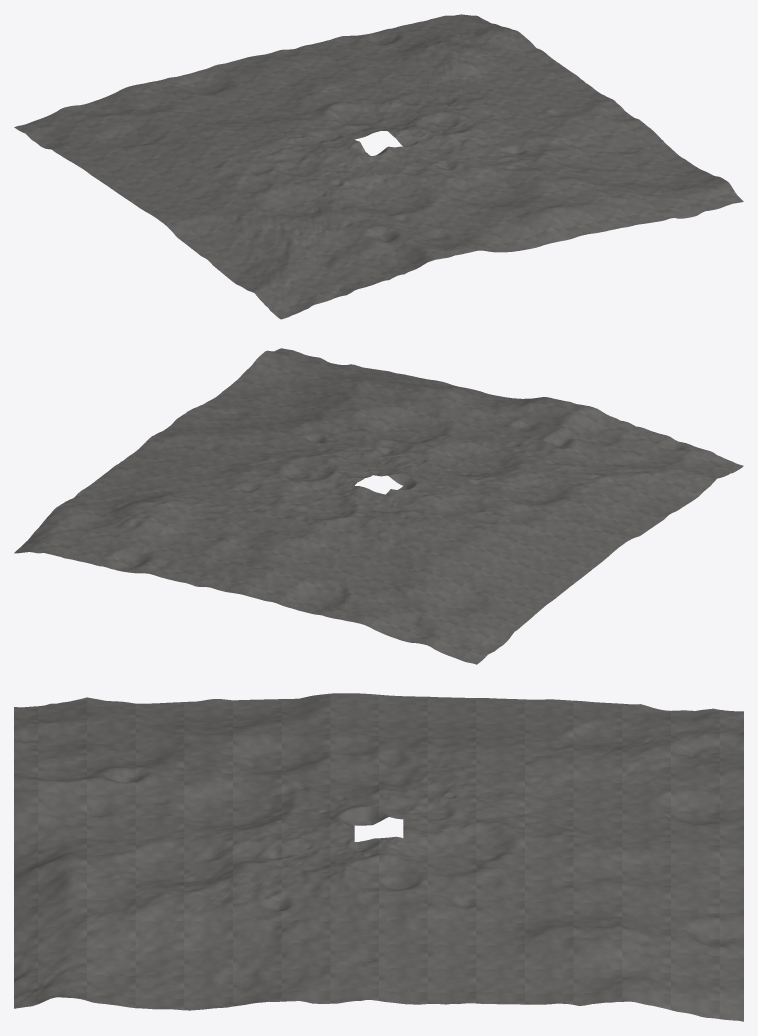
The model's file is shackleton-rim_far.glb.
The picture shows the model from 3 angles, top to bottom: view 1: azimuth 30°, elevation 25°; view 2: azimuth 150°, elevation 25°; view 3: azimuth 270°, elevation 25°; orthographic projection. The views are drawn at different scales.
Visible parts, largest first — view 1: FarTerrain; view 2: FarTerrain; view 3: FarTerrain.
Boxes of the visible parts, <box> form: FarTerrain: <box>14,14,743,319</box>; FarTerrain: <box>14,348,743,664</box>; FarTerrain: <box>14,693,743,1021</box>.
Bounding box in the file's own units: 300 × 18.69 × 300.
Materials: 1 (1 with a texture image).
